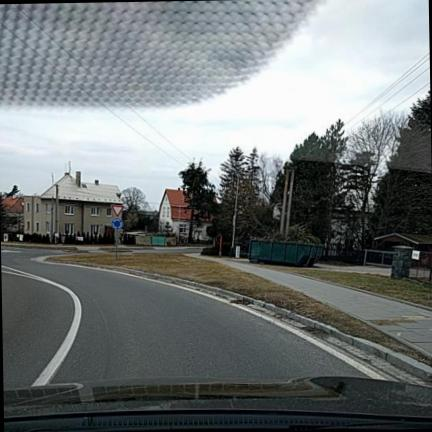Road: (1, 249, 363, 387)
